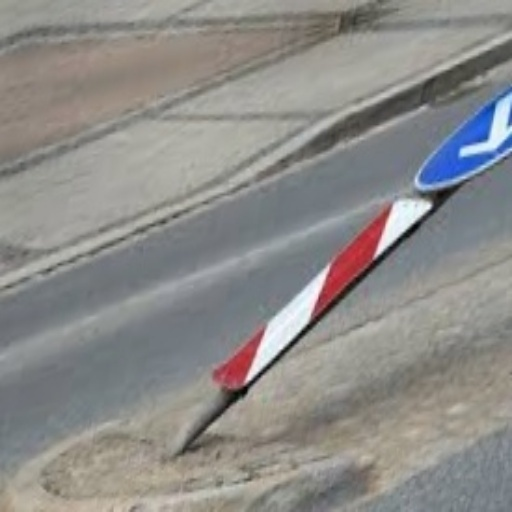Keep right: (409, 72, 511, 184)
